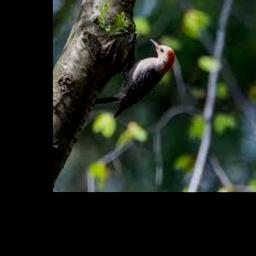Woodpecker: (94, 37, 174, 117)
